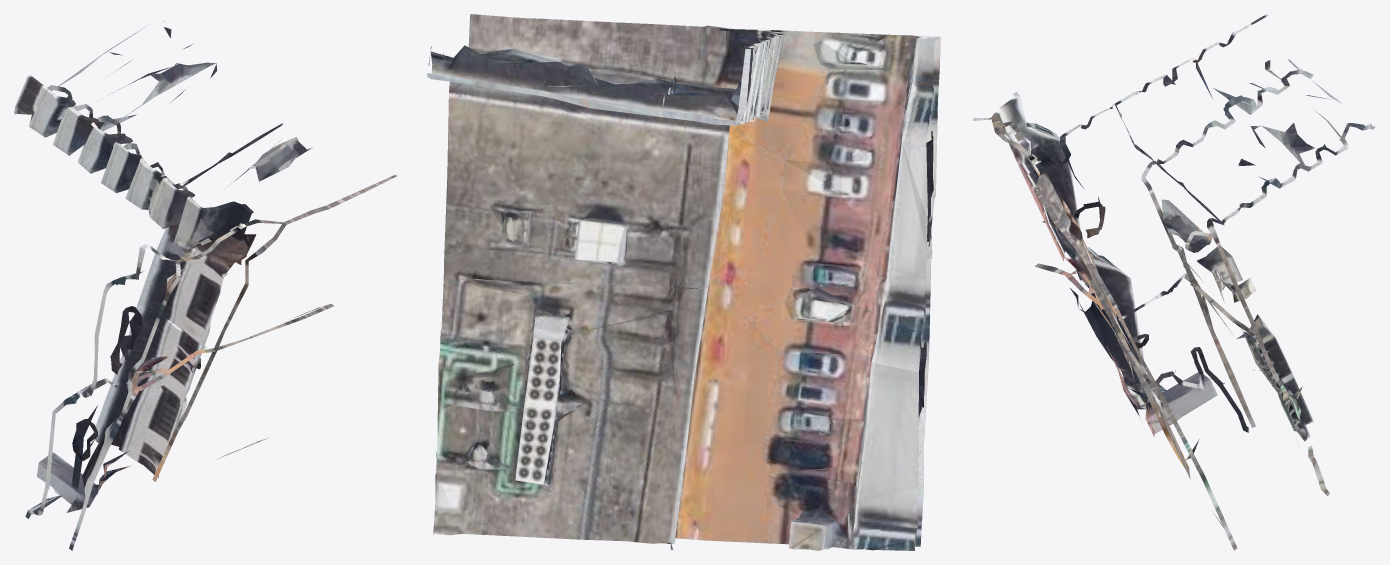
File: AJVsH2z4ypMiwkFm2UDxAw4UBQL5Licb12knE29p9cqCAkS3hN21qZIwEgOvAZfh3uJWJ7yJSZA5BaK3ymlID1QR-Bq9t0iDU2617Wsyeeevdaa8L7oNVe-DCTMLXeRiPogni6cooYbb4v93vZXH4NxPTmU2.glb
3 views of the same model, side by side, from view 1: azimuth 30°, elevation 25°; view 2: azimuth 150°, elevation 25°; view 3: azimuth 270°, elevation 25° (orthographic). The views are drawn at different scales.
Bounding box in the file's own units: 41.5 × 47 × 41.13.
1 material, 1 textured.
